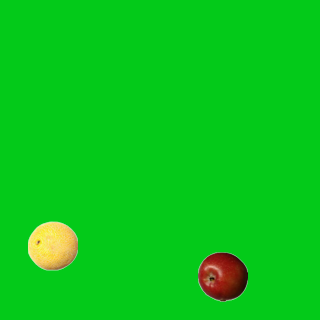Apple Braeburn: (197, 251, 247, 301)
Cantaloupe 1: (27, 220, 77, 270)
